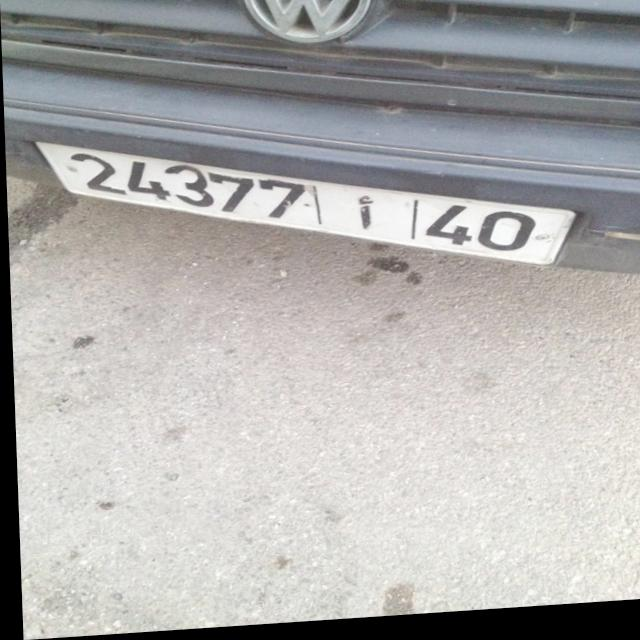License-Plate: (36, 143, 574, 272)
